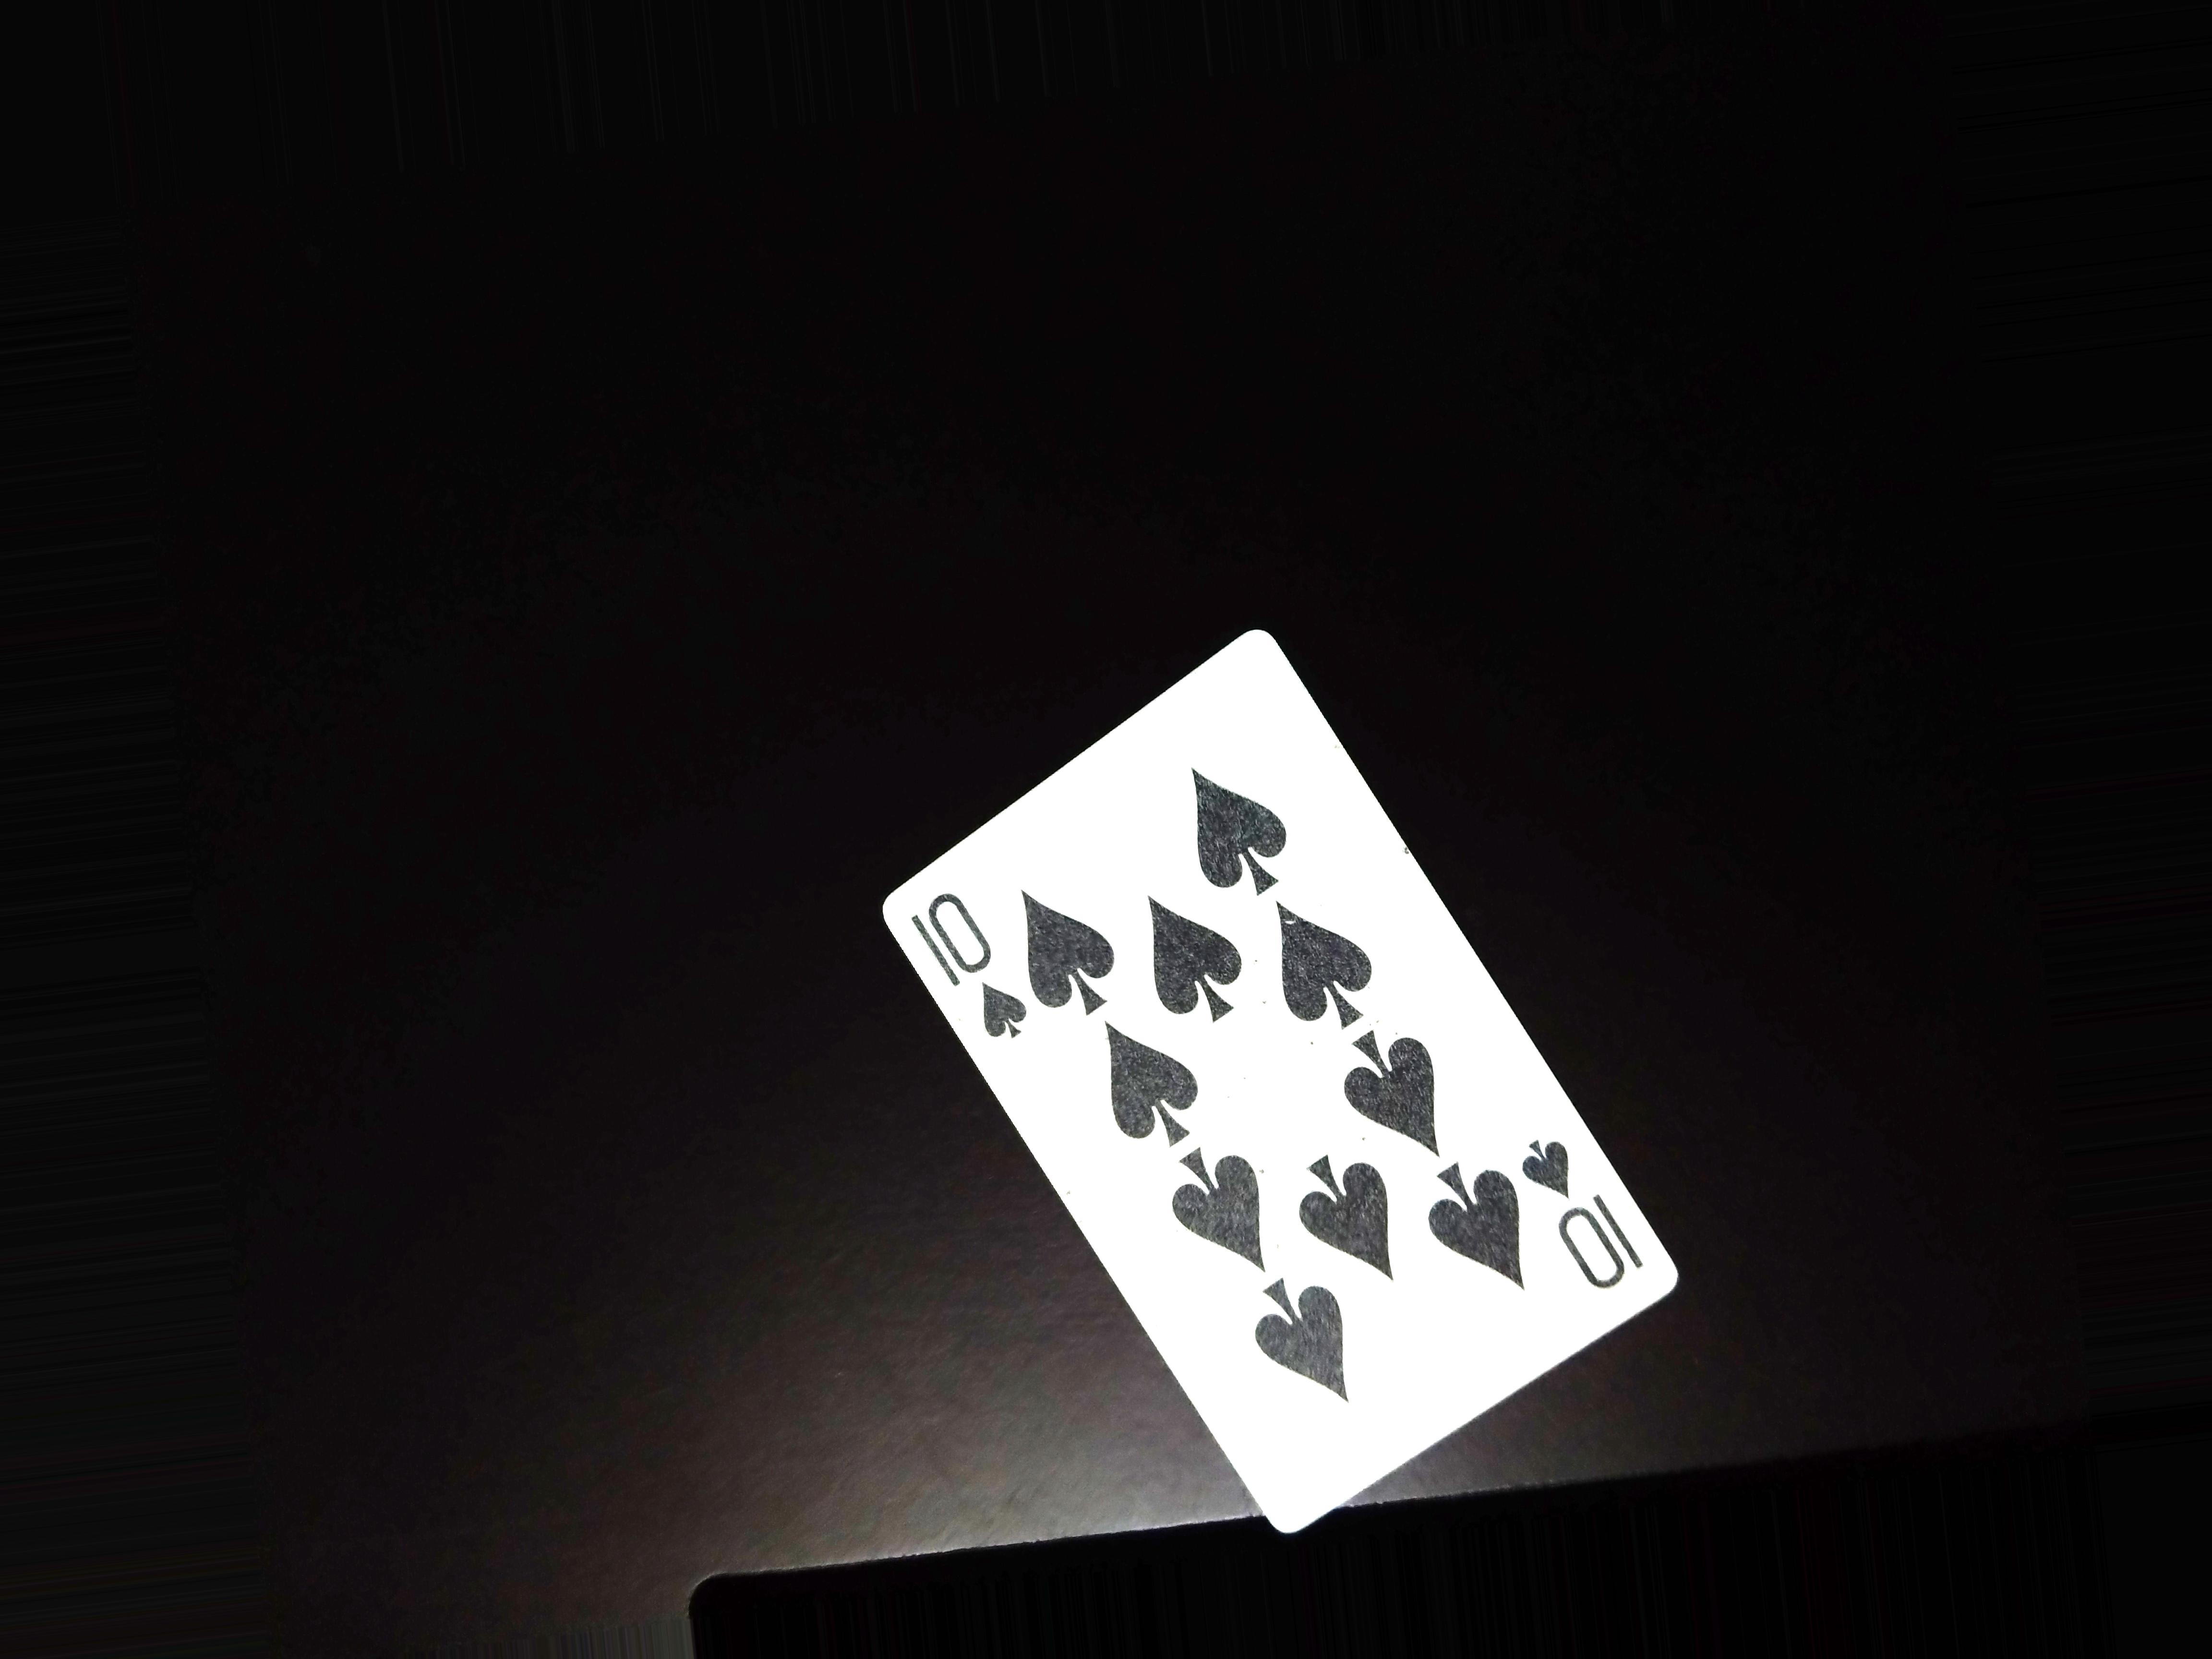10S: (906, 887, 1043, 1058)
